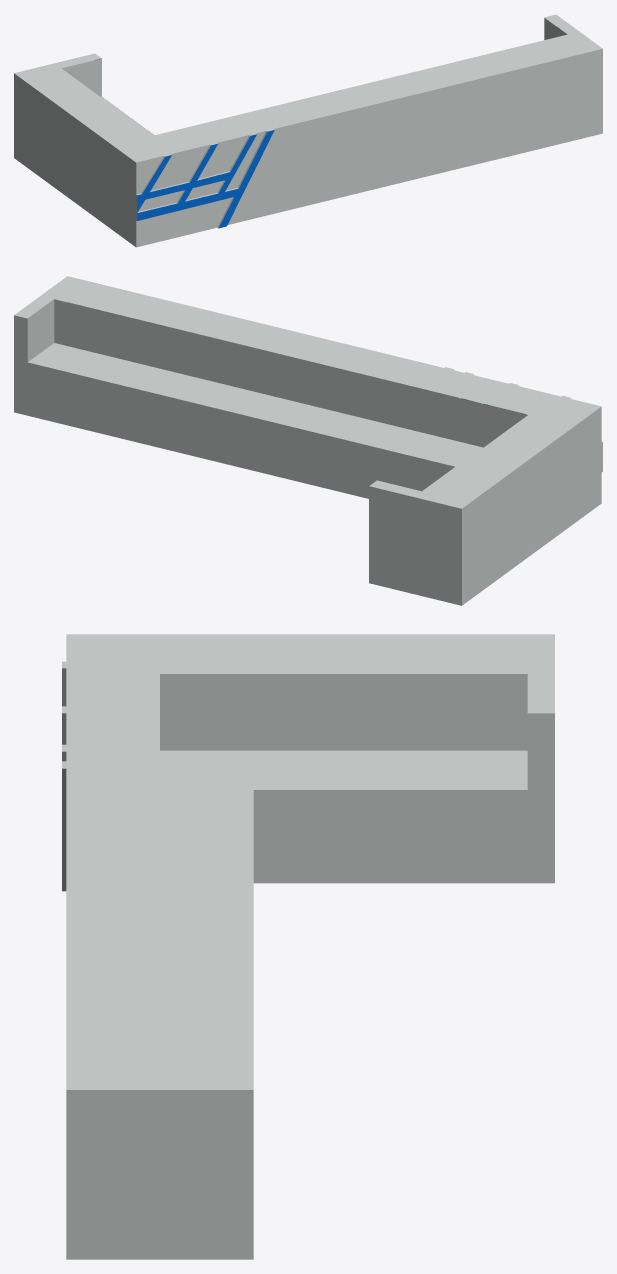
File: RTU-galds.fbx
The picture shows the model from 3 angles, top to bottom: view 1: azimuth 30°, elevation 25°; view 2: azimuth 150°, elevation 25°; view 3: azimuth 270°, elevation 25°; orthographic projection. The views are drawn at different scales.
Visible parts, largest first — view 1: Cube; view 2: Cube; view 3: Cube.
Boxes of the visible parts, bbox=[...] form: Cube: bbox=[14, 14, 602, 247]; Cube: bbox=[14, 276, 602, 605]; Cube: bbox=[62, 634, 554, 1259].
Bounding box in the file's own units: 1152 × 200 × 527.
